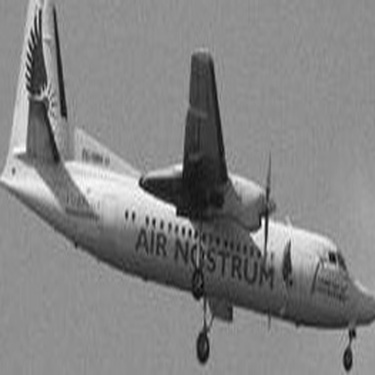airplane: (2, 1, 354, 331)
